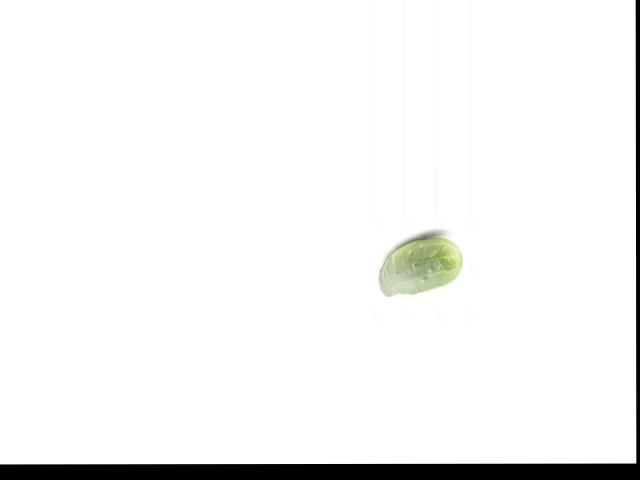cucumber: (378, 236, 463, 296)
